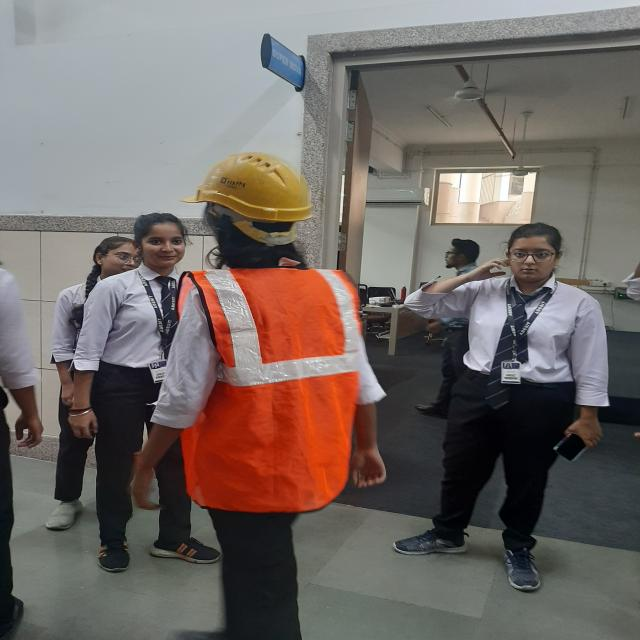safe: (145, 150, 376, 640)
unsafe: (402, 212, 615, 590), (58, 212, 188, 578)
